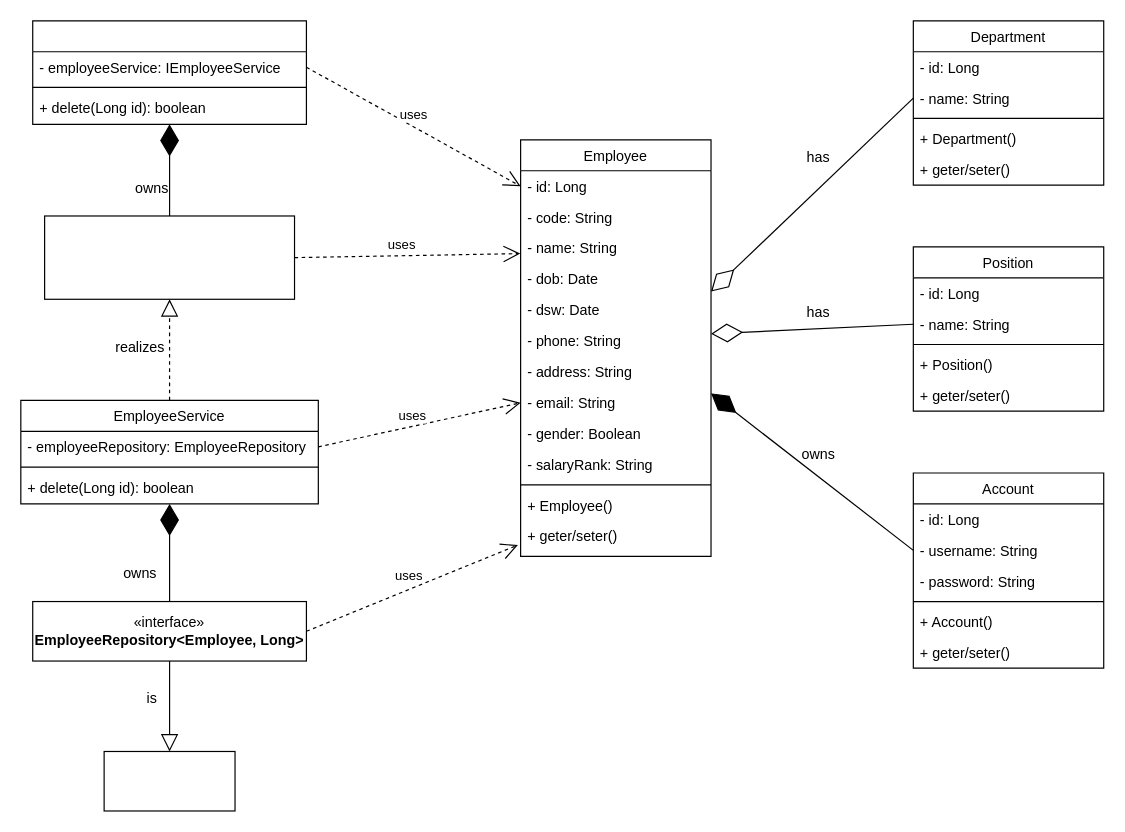
Some shapes in this 1125 by 832 pixel diagram are drawn without their labels. The shapes that lost their labels are listed below. From the top down, each one's box as (x1, y1, x2, y2) in pixels, then its label:
(32, 20, 306, 124): EmployeeController
(43, 215, 295, 299): <<Interface>> IEmployeeService + delete(Long id): boolean
(103, 750, 235, 811): «interface» JpaRepository
